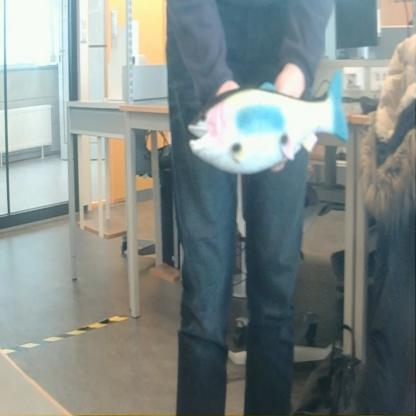rubberfish: (184, 64, 352, 178)
